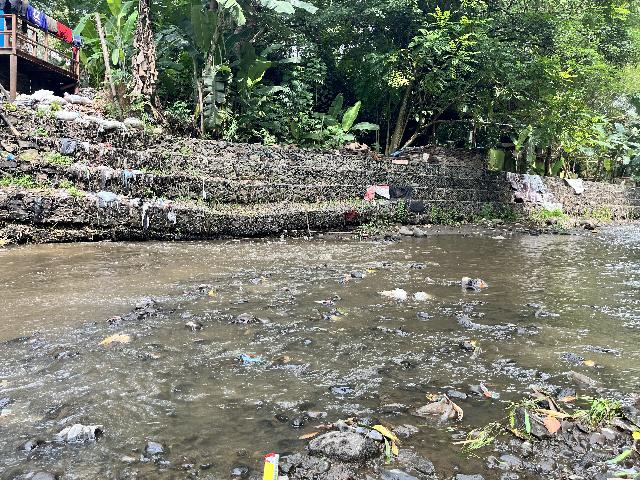Sampah Anorganik: (414, 393, 463, 420), (260, 447, 279, 480), (474, 381, 499, 400), (458, 275, 489, 290), (373, 287, 407, 299), (236, 350, 262, 364), (414, 289, 430, 301), (313, 299, 336, 306), (0, 408, 15, 418), (280, 285, 288, 291)
Sampah Organik: (506, 388, 627, 433), (280, 417, 398, 461), (100, 332, 134, 345), (465, 341, 481, 355), (331, 307, 346, 321), (273, 355, 290, 365), (106, 316, 122, 322), (242, 317, 255, 324), (364, 268, 376, 274), (282, 299, 295, 304), (259, 275, 268, 282), (206, 289, 215, 296), (346, 276, 349, 281)
